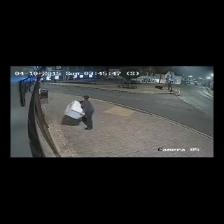person: (80, 96, 94, 129)
